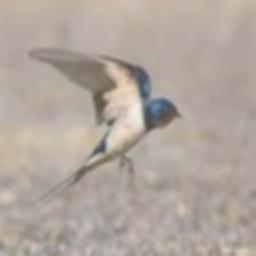Swallow: (28, 47, 183, 209)
